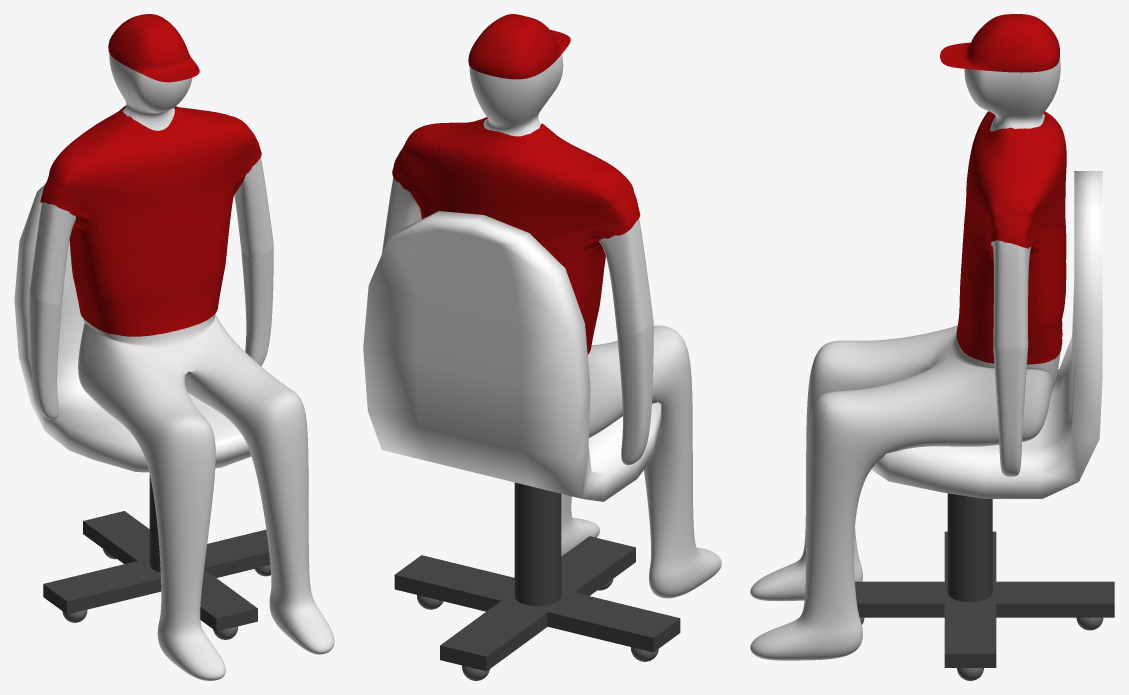
The model's file is Test2PlayerOnChair.glb.
3 renders of one model, left to right at view 1: azimuth 30°, elevation 25°; view 2: azimuth 150°, elevation 25°; view 3: azimuth 270°, elevation 25°, orthographic. The views are drawn at different scales.
Parts seen in each view (by area): view 1: Charcter, Shirt, Seat, Leg, Hat, Leg.001, Wheels; view 2: Seat, Charcter, Shirt, Leg, Leg.001, Hat, Wheels; view 3: Charcter, Shirt, Seat, Leg, Hat, Leg.001, Wheels.
Boxes of the visible parts, x1,y1,x2,y2 form: Charcter: (29, 53, 334, 680); Shirt: (40, 105, 261, 336); Seat: (14, 184, 251, 472); Leg: (43, 511, 270, 631); Hat: (108, 14, 199, 82); Leg.001: (149, 474, 160, 572); Wheels: (62, 549, 270, 639); Seat: (363, 211, 661, 501); Charcter: (382, 54, 721, 598); Shirt: (392, 117, 640, 354); Leg: (394, 536, 680, 671); Leg.001: (514, 482, 561, 606); Hat: (468, 14, 570, 79); Wheels: (417, 579, 658, 680); Charcter: (750, 57, 1060, 660); Shirt: (956, 111, 1066, 364); Seat: (871, 171, 1102, 498); Leg: (855, 531, 1114, 667); Hat: (940, 14, 1059, 72); Leg.001: (947, 493, 992, 601); Wheels: (860, 617, 1103, 680).
Bounding box in the file's own units: 2.09 × 4.74 × 2.56.
